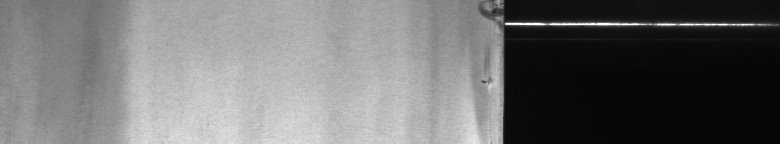hb: (471, 4, 492, 136)
